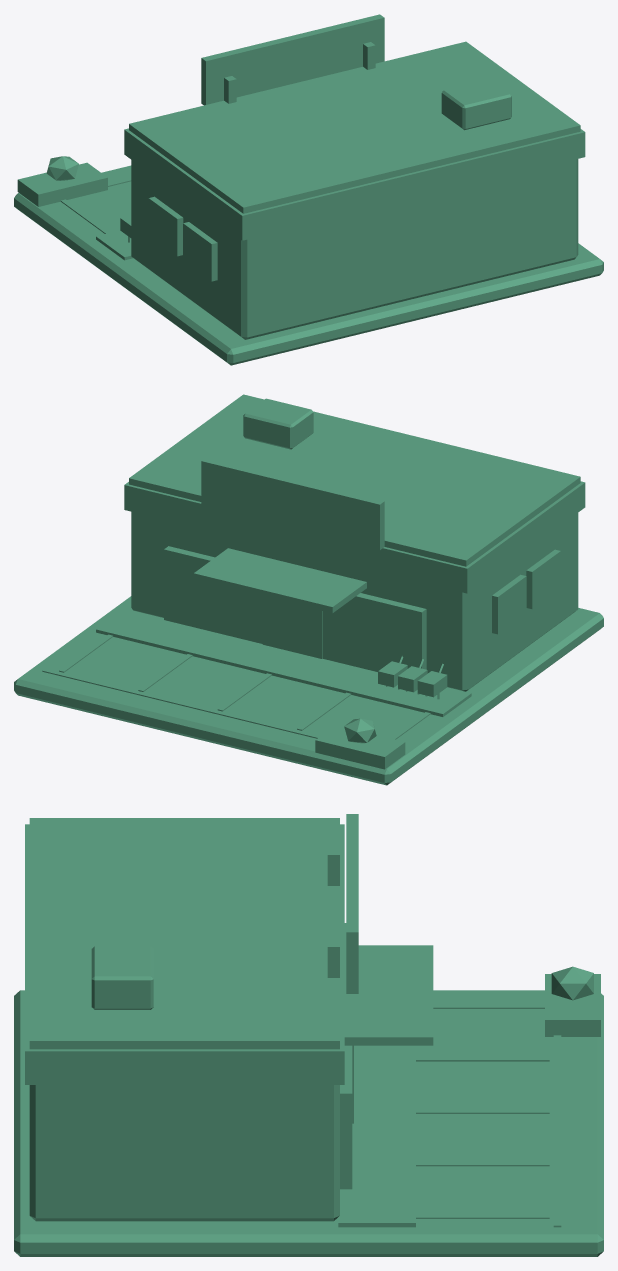
3 renders of one model, top to bottom at view 1: azimuth 30°, elevation 25°; view 2: azimuth 150°, elevation 25°; view 3: azimuth 270°, elevation 25°, orthographic. The views are drawn at different scales.
Visible parts, largest first — view 1: corpo; view 2: corpo; view 3: corpo.
Boxes of the visible parts, x1,y1,x2,y2 form: corpo: (14, 14, 603, 365); corpo: (14, 394, 603, 785); corpo: (14, 814, 603, 1256).
Bounding box in the file's own units: 1.9 × 0.93 × 1.9.
